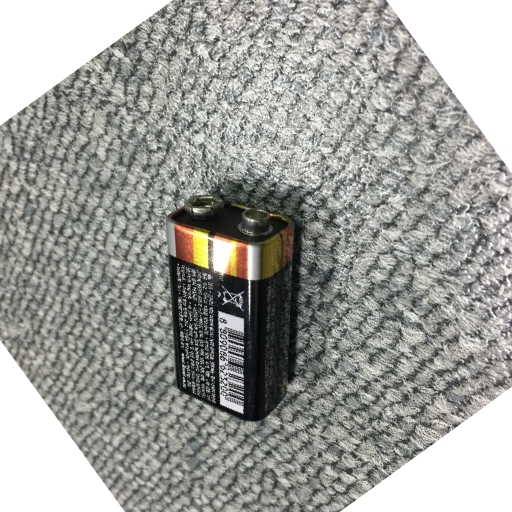Battery_3: (151, 185, 307, 428)
